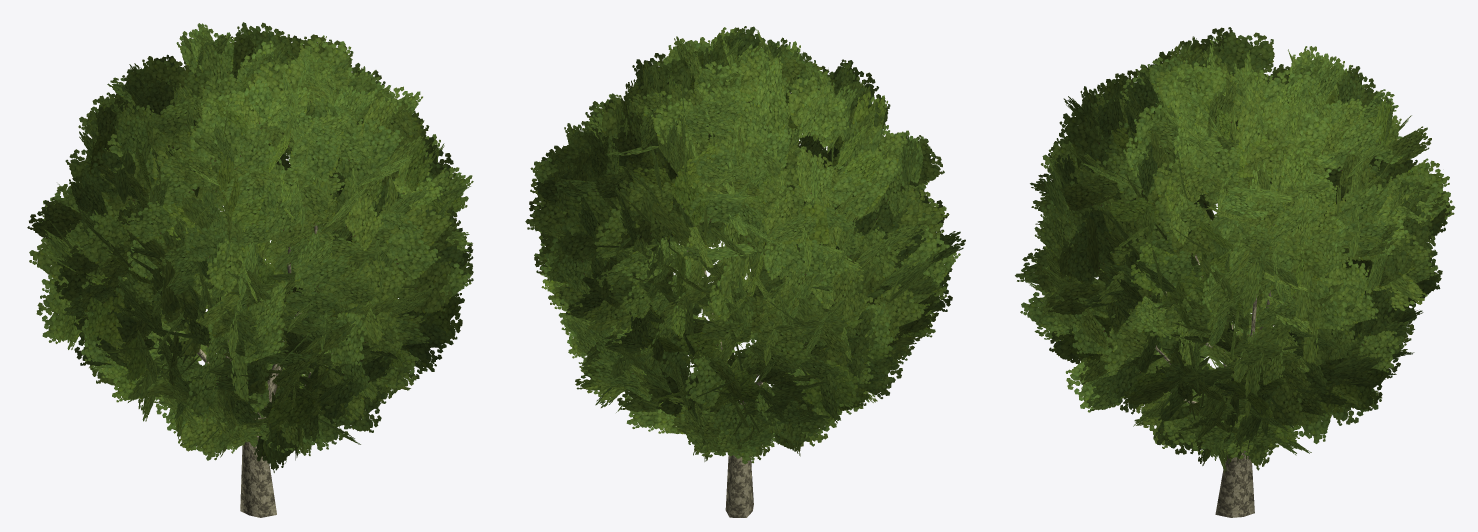
The model's file is arbre_platane_lod1.glb.
3 views of the same model, side by side, from view 1: azimuth 30°, elevation 25°; view 2: azimuth 150°, elevation 25°; view 3: azimuth 270°, elevation 25° (orthographic). The views are drawn at different scales.
Visible parts, largest first — view 1: arbre_platane_lod1; view 2: arbre_platane_lod1; view 3: arbre_platane_lod1.
Part boxes in pixels (x1,y1,x2,y2): arbre_platane_lod1: [27, 22, 473, 517]; arbre_platane_lod1: [525, 26, 965, 517]; arbre_platane_lod1: [1015, 27, 1455, 517].
Bounding box in the file's own units: 13.98 × 15.81 × 13.83.
Materials: 2 (2 with a texture image).
